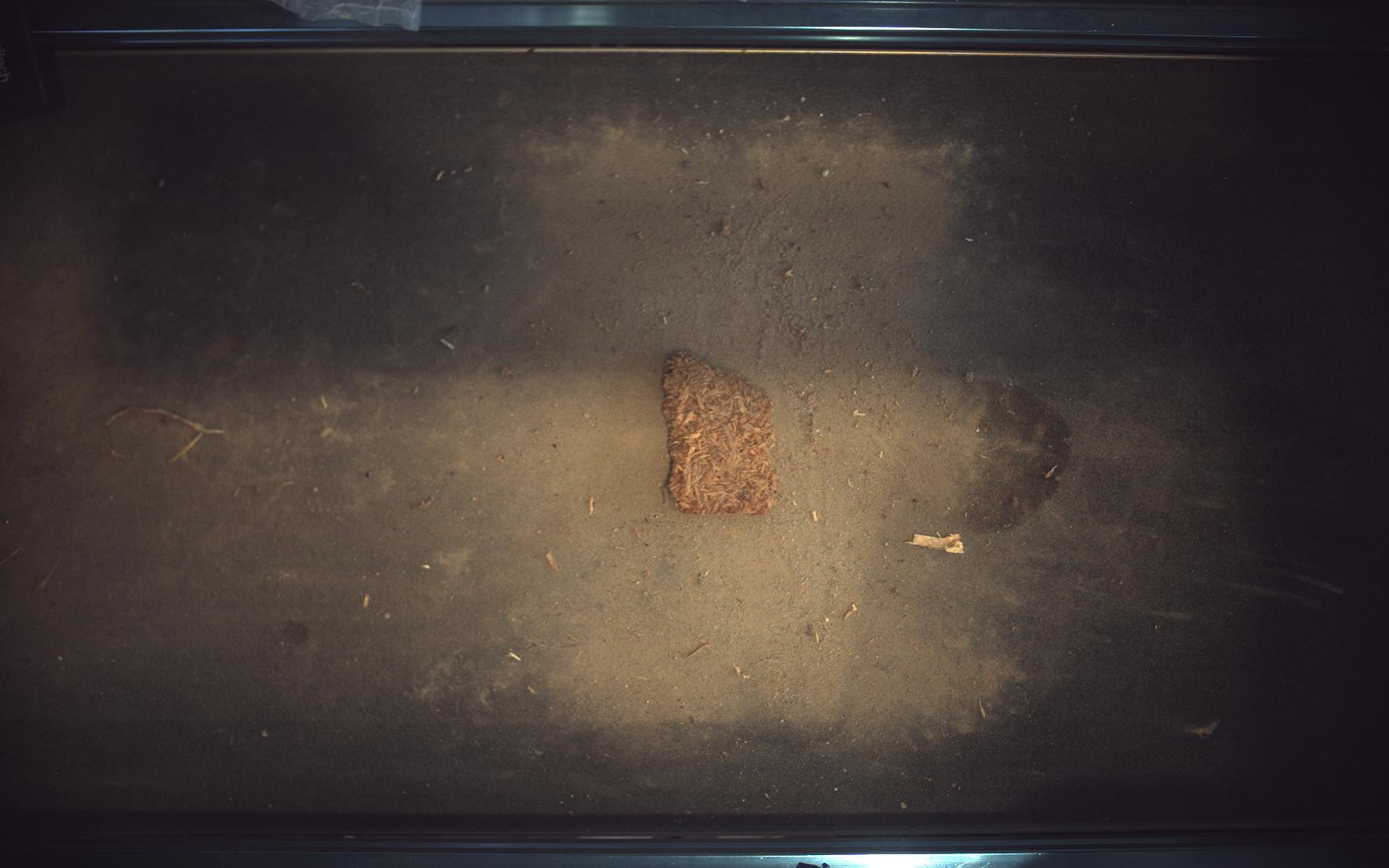wood: (663, 352, 780, 515)
